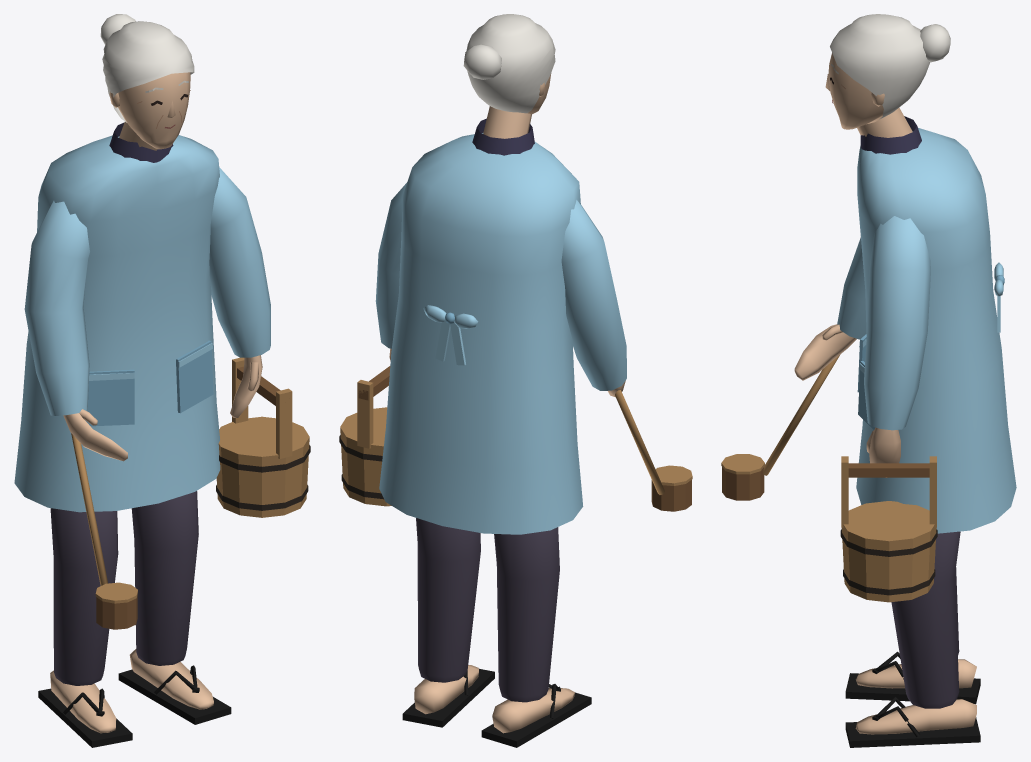
File: npc_neighbor.glb
3 views of the same model, side by side, from view 1: azimuth 30°, elevation 25°; view 2: azimuth 150°, elevation 25°; view 3: azimuth 270°, elevation 25° (orthographic). The views are drawn at different scales.
Visible parts, largest first — view 1: body, hair, face; view 2: body, hair, face; view 3: body, hair, face.
Part boxes in pixels (left/top/right/bottom): body: left=14, top=122, right=310, bottom=747; hair: left=100, top=14, right=194, bottom=122; face: left=109, top=72, right=190, bottom=150; body: left=339, top=118, right=692, bottom=747; hair: left=463, top=14, right=555, bottom=113; face: left=483, top=73, right=551, bottom=138; body: left=721, top=116, right=1016, bottom=747; hair: left=830, top=14, right=950, bottom=119; face: left=825, top=53, right=912, bottom=137.
Bounding box in the file's own units: 0.6065 × 1.44 × 0.556.
